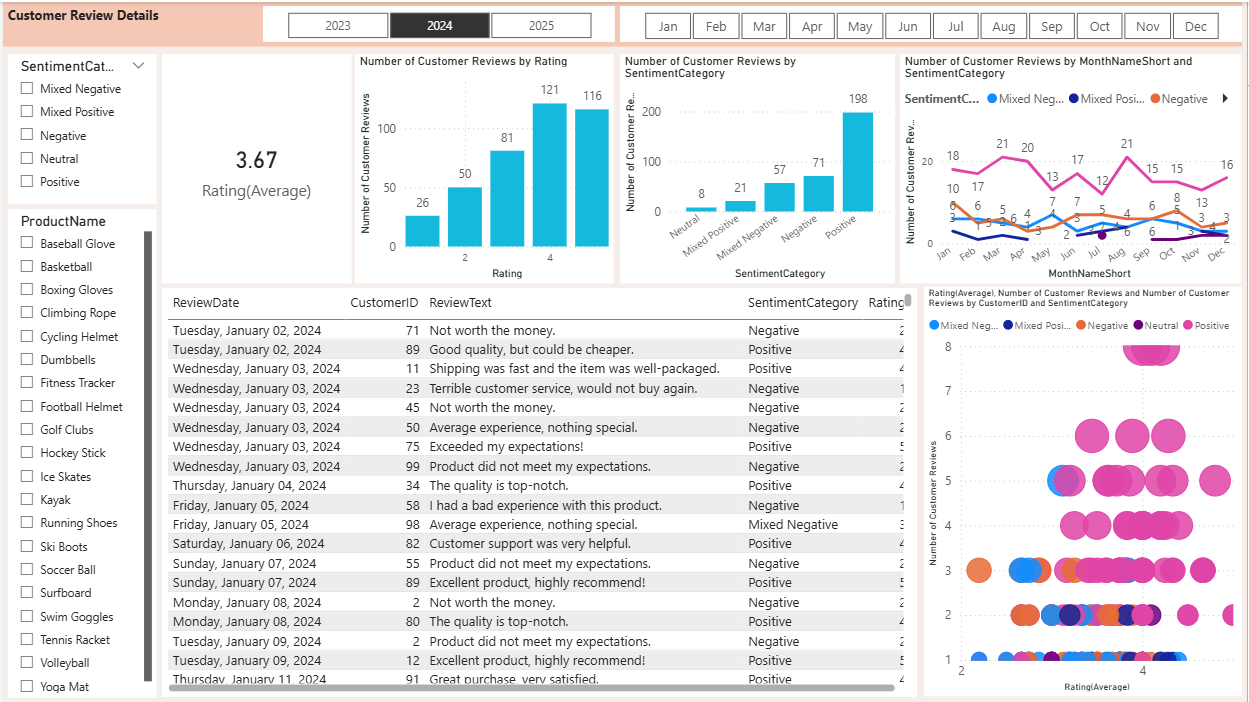

This screenshot's page, from the dashboard's own definition file:
{"tool":"powerbi","page":{"name":"Customer Review Details","canvas":[1280,720],"ordinal":3},"visuals":[{"type":"textbox","box":[0,0,1274.6,46.5],"z":0},{"type":"slicer","fields":{"Values":["dim_products.ProductName"]},"box":[5.6,212.5,153,502.5],"z":1000},{"type":"slicer","fields":{"Values":["Calendar.Year"]},"box":[267.1,4.3,361.9,37.2],"z":2000},{"type":"slicer","fields":{"Values":["Calendar.MonthNameShort"]},"box":[634.5,4.3,640.1,37.2],"z":3000},{"type":"card","fields":{"Values":["_Calculations.Rating(Average)"]},"box":[163.6,53.3,194.6,236.1],"z":4000},{"type":"clusteredColumnChart","fields":{"Y":["_Calculations.Number of Customer Reviews"],"Category":["fact_customer_reviews_with_sentiment.Rating"]},"box":[362.5,53.3,266.4,236.1],"z":5000},{"type":"clusteredColumnChart","fields":{"Y":["_Calculations.Number of Customer Reviews"],"Category":["fact_customer_reviews_with_sentiment.SentimentCategory"]},"box":[634.5,53.3,282.5,236.1],"z":6000},{"type":"lineChart","fields":{"Category":["Calendar.MonthNameShort"],"Series":["fact_customer_reviews_with_sentiment.SentimentCategory"],"Y":["_Calculations.Number of Customer Reviews"]},"box":[923.2,53.3,351.3,236.1],"z":7000},{"type":"tableEx","fields":{"Values":["fact_customer_reviews_with_sentiment.ReviewDate","fact_customer_reviews_with_sentiment.CustomerID","fact_customer_reviews_with_sentiment.ReviewText","fact_customer_reviews_with_sentiment.SentimentCategory","fact_customer_reviews_with_sentiment.Rating"]},"box":[163.6,294.3,777,420.7],"z":8000},{"type":"scatterChart","fields":{"X":["_Calculations.Rating(Average)"],"Y":["_Calculations.Number of Customer Reviews"],"Category":["dim_customers.CustomerID"],"Series":["fact_customer_reviews_with_sentiment.SentimentCategory"],"Size":["_Calculations.Number of Customer Reviews"]},"box":[947.4,293.7,327.2,421.3],"z":9000},{"type":"slicer","fields":{"Values":["fact_customer_reviews_with_sentiment.SentimentCategory"]},"box":[5.6,53.3,153,154.3],"z":10000}]}

Visuals, with their boxes in screenshot pixels (x1, y1, x2, y2), scaled from the page's 1280x720 canvas onto the 1249x702 screenshot:
textbox: <box>0,0,1244,45</box>
slicer - dim_products.ProductName: <box>5,207,155,697</box>
slicer - Calendar.Year: <box>261,4,614,40</box>
slicer - Calendar.MonthNameShort: <box>619,4,1244,40</box>
card - _Calculations.Rating(Average): <box>160,52,350,282</box>
clusteredColumnChart - _Calculations.Number of Customer Reviews x fact_customer_reviews_with_sentiment.Rating: <box>354,52,614,282</box>
clusteredColumnChart - _Calculations.Number of Customer Reviews x fact_customer_reviews_with_sentiment.SentimentCategory: <box>619,52,895,282</box>
lineChart - Calendar.MonthNameShort x fact_customer_reviews_with_sentiment.SentimentCategory: <box>901,52,1244,282</box>
tableEx - fact_customer_reviews_with_sentiment.ReviewDate x fact_customer_reviews_with_sentiment.CustomerID: <box>160,287,918,697</box>
scatterChart - _Calculations.Rating(Average) x _Calculations.Number of Customer Reviews: <box>924,286,1244,697</box>
slicer - fact_customer_reviews_with_sentiment.SentimentCategory: <box>5,52,155,202</box>
